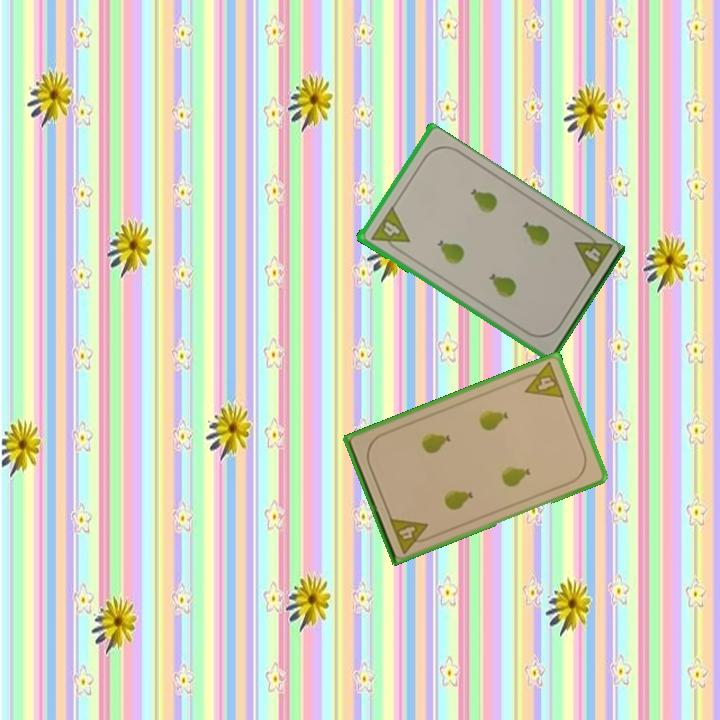4p: (570, 227, 615, 282), (367, 204, 412, 256), (386, 513, 435, 556), (517, 359, 567, 401)
